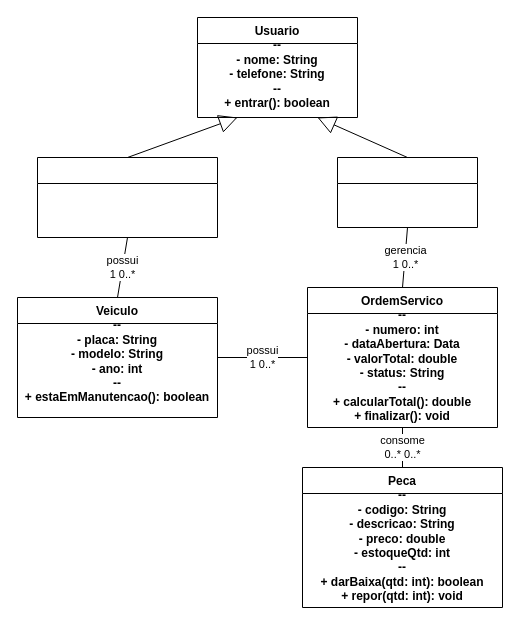
Image size: 520x625. Some labels were removed from this diagram. The centre of each missing label's shape, as x and y in pixels:
Cliente -- -- + consultarSituacao(): void: [127,197]
Mecanico -- --: [407,192]
